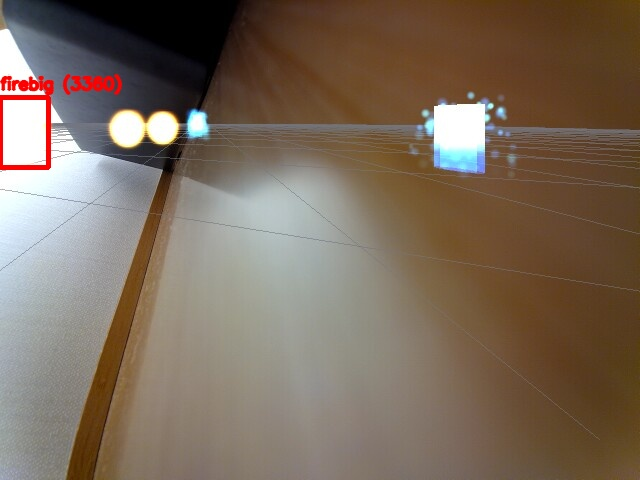firebig: (0, 97, 48, 167)
